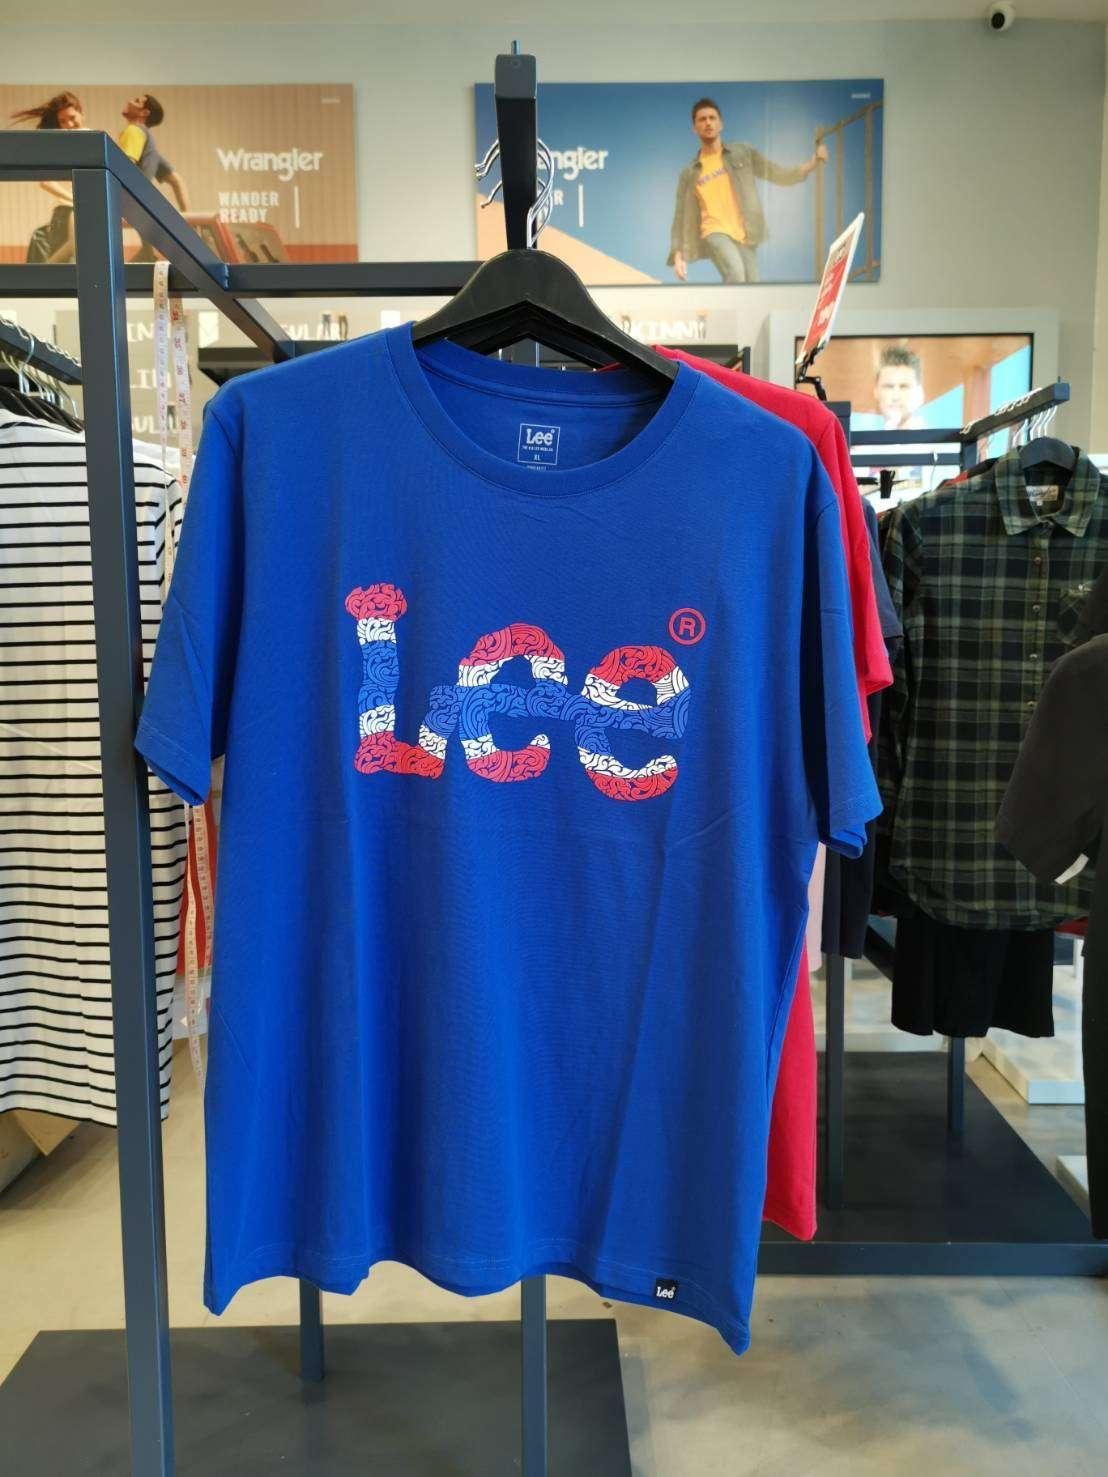Tshirt: (141, 324, 867, 1312)
